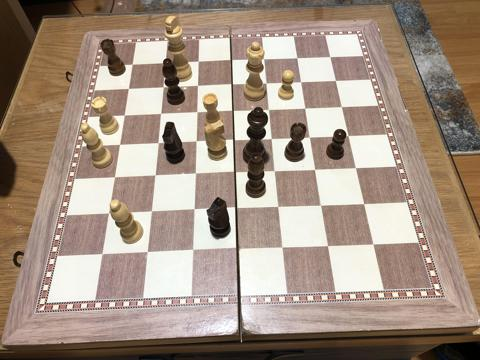xcorner: (324, 49, 336, 62), (159, 56, 171, 69), (228, 133, 240, 146), (189, 135, 202, 147), (309, 163, 322, 175), (188, 168, 201, 180), (315, 199, 328, 211), (187, 204, 200, 216), (102, 207, 115, 219), (231, 243, 244, 255), (141, 246, 153, 259), (291, 51, 303, 63), (258, 52, 270, 64), (225, 54, 237, 66), (192, 55, 204, 67), (126, 58, 138, 70), (329, 73, 341, 85), (295, 75, 307, 87), (260, 76, 272, 88), (226, 78, 238, 90), (191, 79, 203, 91), (157, 81, 169, 93), (122, 82, 134, 94), (336, 100, 348, 112), (299, 101, 311, 113), (263, 103, 275, 115), (227, 104, 239, 116), (190, 106, 202, 118), (154, 107, 166, 119), (118, 109, 130, 121), (342, 129, 354, 141), (304, 130, 316, 142), (266, 132, 278, 144), (151, 137, 163, 149), (113, 138, 125, 150), (350, 161, 362, 173), (269, 164, 281, 176), (229, 166, 241, 178), (148, 169, 160, 181), (108, 171, 120, 183), (358, 197, 370, 209), (273, 201, 285, 213), (230, 202, 242, 214), (145, 206, 157, 218), (368, 238, 380, 250), (322, 240, 334, 252), (277, 241, 289, 253), (186, 245, 198, 257), (96, 248, 108, 260)
